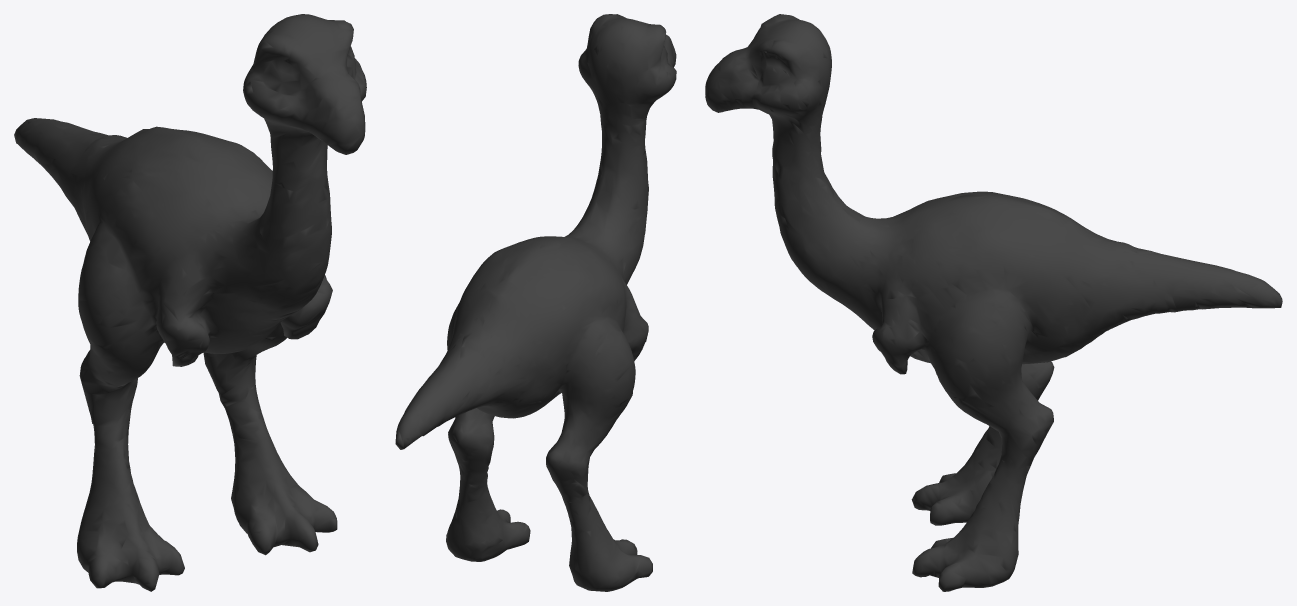
The model's file is gallimimus.glb.
3 renders of one model, left to right at view 1: azimuth 30°, elevation 25°; view 2: azimuth 150°, elevation 25°; view 3: azimuth 270°, elevation 25°, orthographic. The views are drawn at different scales.
Parts seen in each view (by area): view 1: geometry_0; view 2: geometry_0; view 3: geometry_0.
Part boxes in pixels (x1,y1,x2,y2): geometry_0: (14,14,366,591); geometry_0: (395,14,676,591); geometry_0: (705,14,1282,591).
Size of the model in its own units: 0.4191 by 0.9994 by 1.
1 material, 1 textured.
